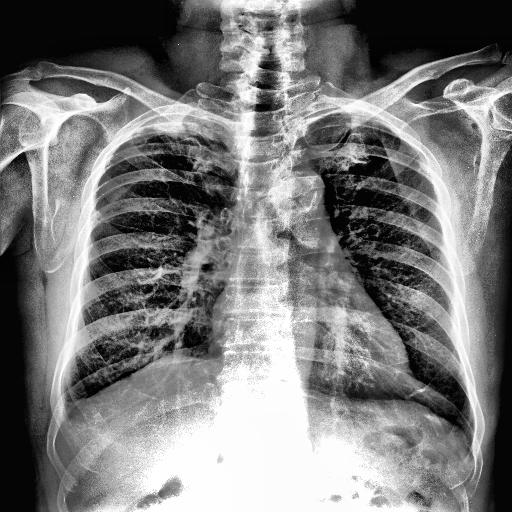0- Aortic enlargement: (274, 170, 330, 212)
10- Pleural effusion: (44, 380, 104, 414), (52, 388, 82, 422)
11- Pleural thickening: (130, 103, 234, 145), (130, 106, 218, 135), (130, 110, 218, 137), (44, 380, 104, 414), (52, 388, 82, 422)
13- Pulmonary fibrosis: (162, 128, 201, 144)
7- Lung Opacity: (130, 103, 234, 145)
